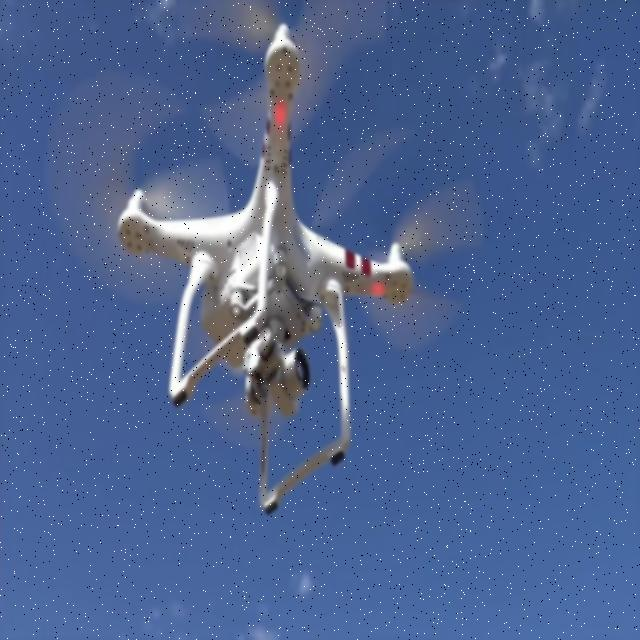UAV: (43, 0, 483, 514)
